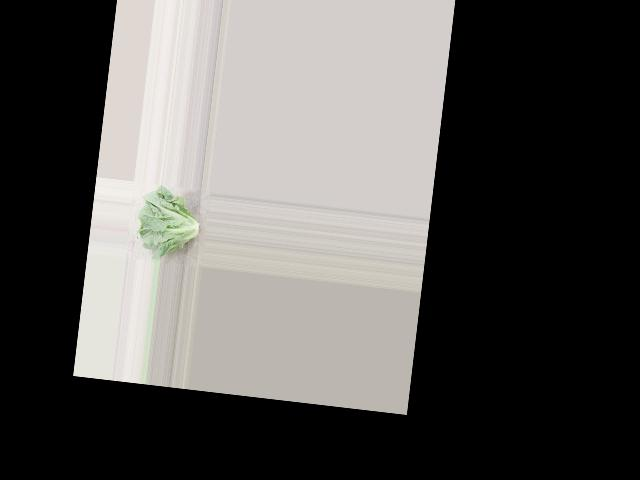lettuce: (131, 185, 208, 264)
